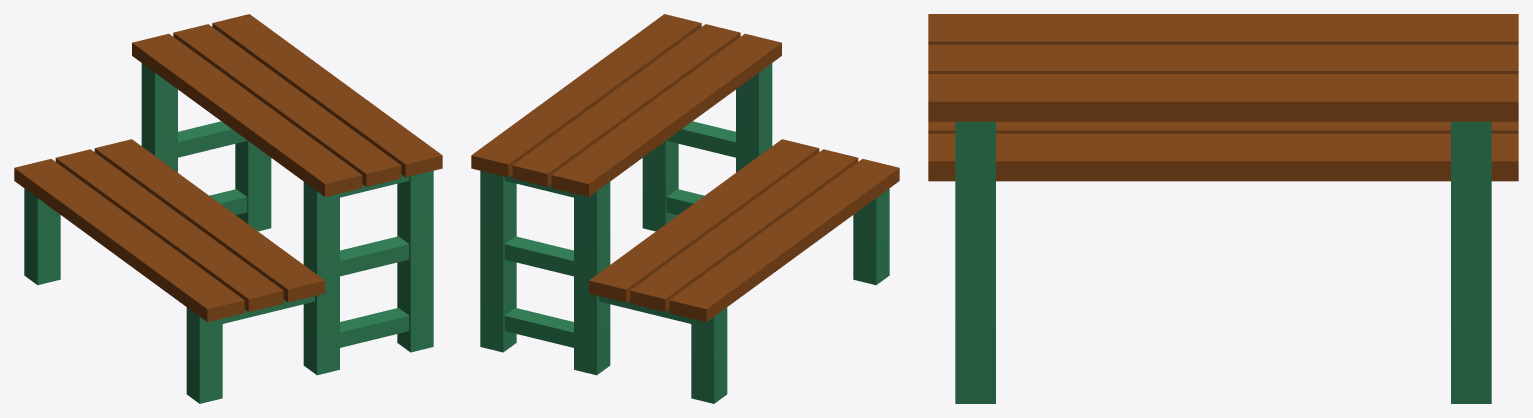
The model's file is Bench_1_C_2.fbx.
3 renders of one model, left to right at view 1: azimuth 30°, elevation 25°; view 2: azimuth 150°, elevation 25°; view 3: azimuth 270°, elevation 25°, orthographic. The views are drawn at different scales.
Parts seen in each view (by area): view 1: Bench_1_C_2; view 2: Bench_1_C_2; view 3: Bench_1_C_2.
Part boxes in pixels (<box>): Bench_1_C_2: <box>14,14,442,403</box>; Bench_1_C_2: <box>471,14,899,403</box>; Bench_1_C_2: <box>928,14,1518,403</box>.
Size of the model in its own units: 81.37 by 65.4 by 116.
